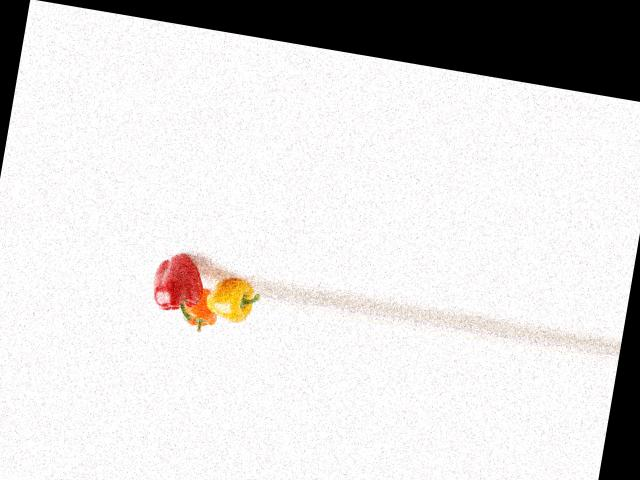bell_pepper: (146, 243, 212, 328)
